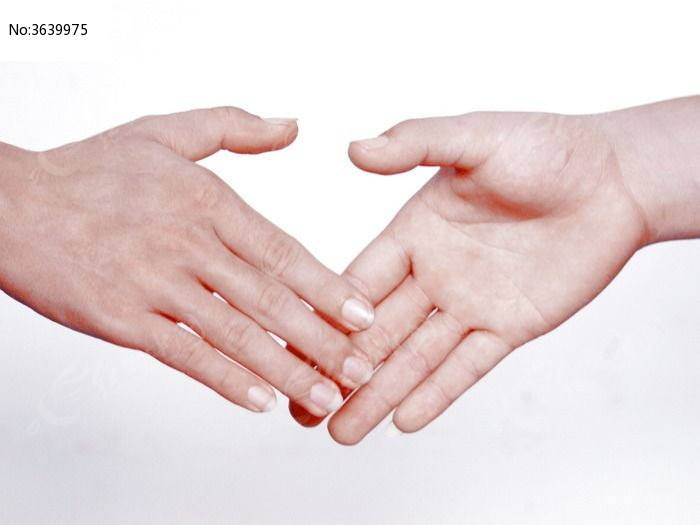no-phone: (280, 107, 646, 447), (6, 96, 382, 420)
